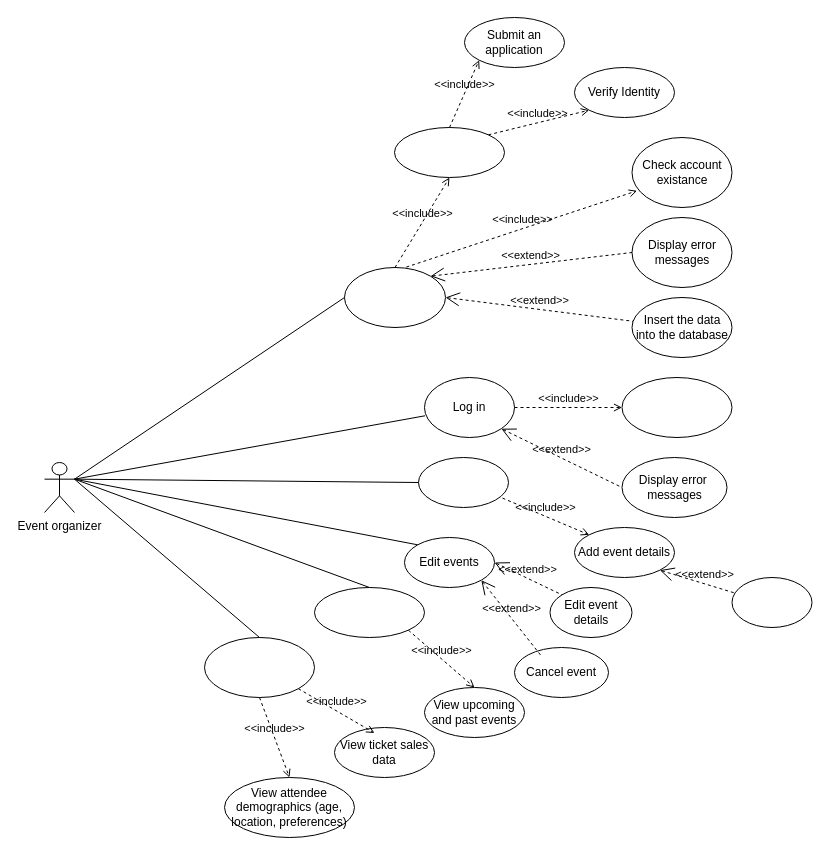
The diagram is 829 pixels wide and 855 high, and some of its shapes have lost their labels. Each missing label, with the centre of its shape:
"Add media" belongs at point (771, 602).
"Become an organizer" belongs at point (449, 152).
"Check data" belongs at point (676, 407).
"Create Account" belongs at point (395, 297).
"Create events" belongs at point (463, 482).
"Manage personal calendar" belongs at point (369, 612).
"View event statistics" belongs at point (259, 667).
